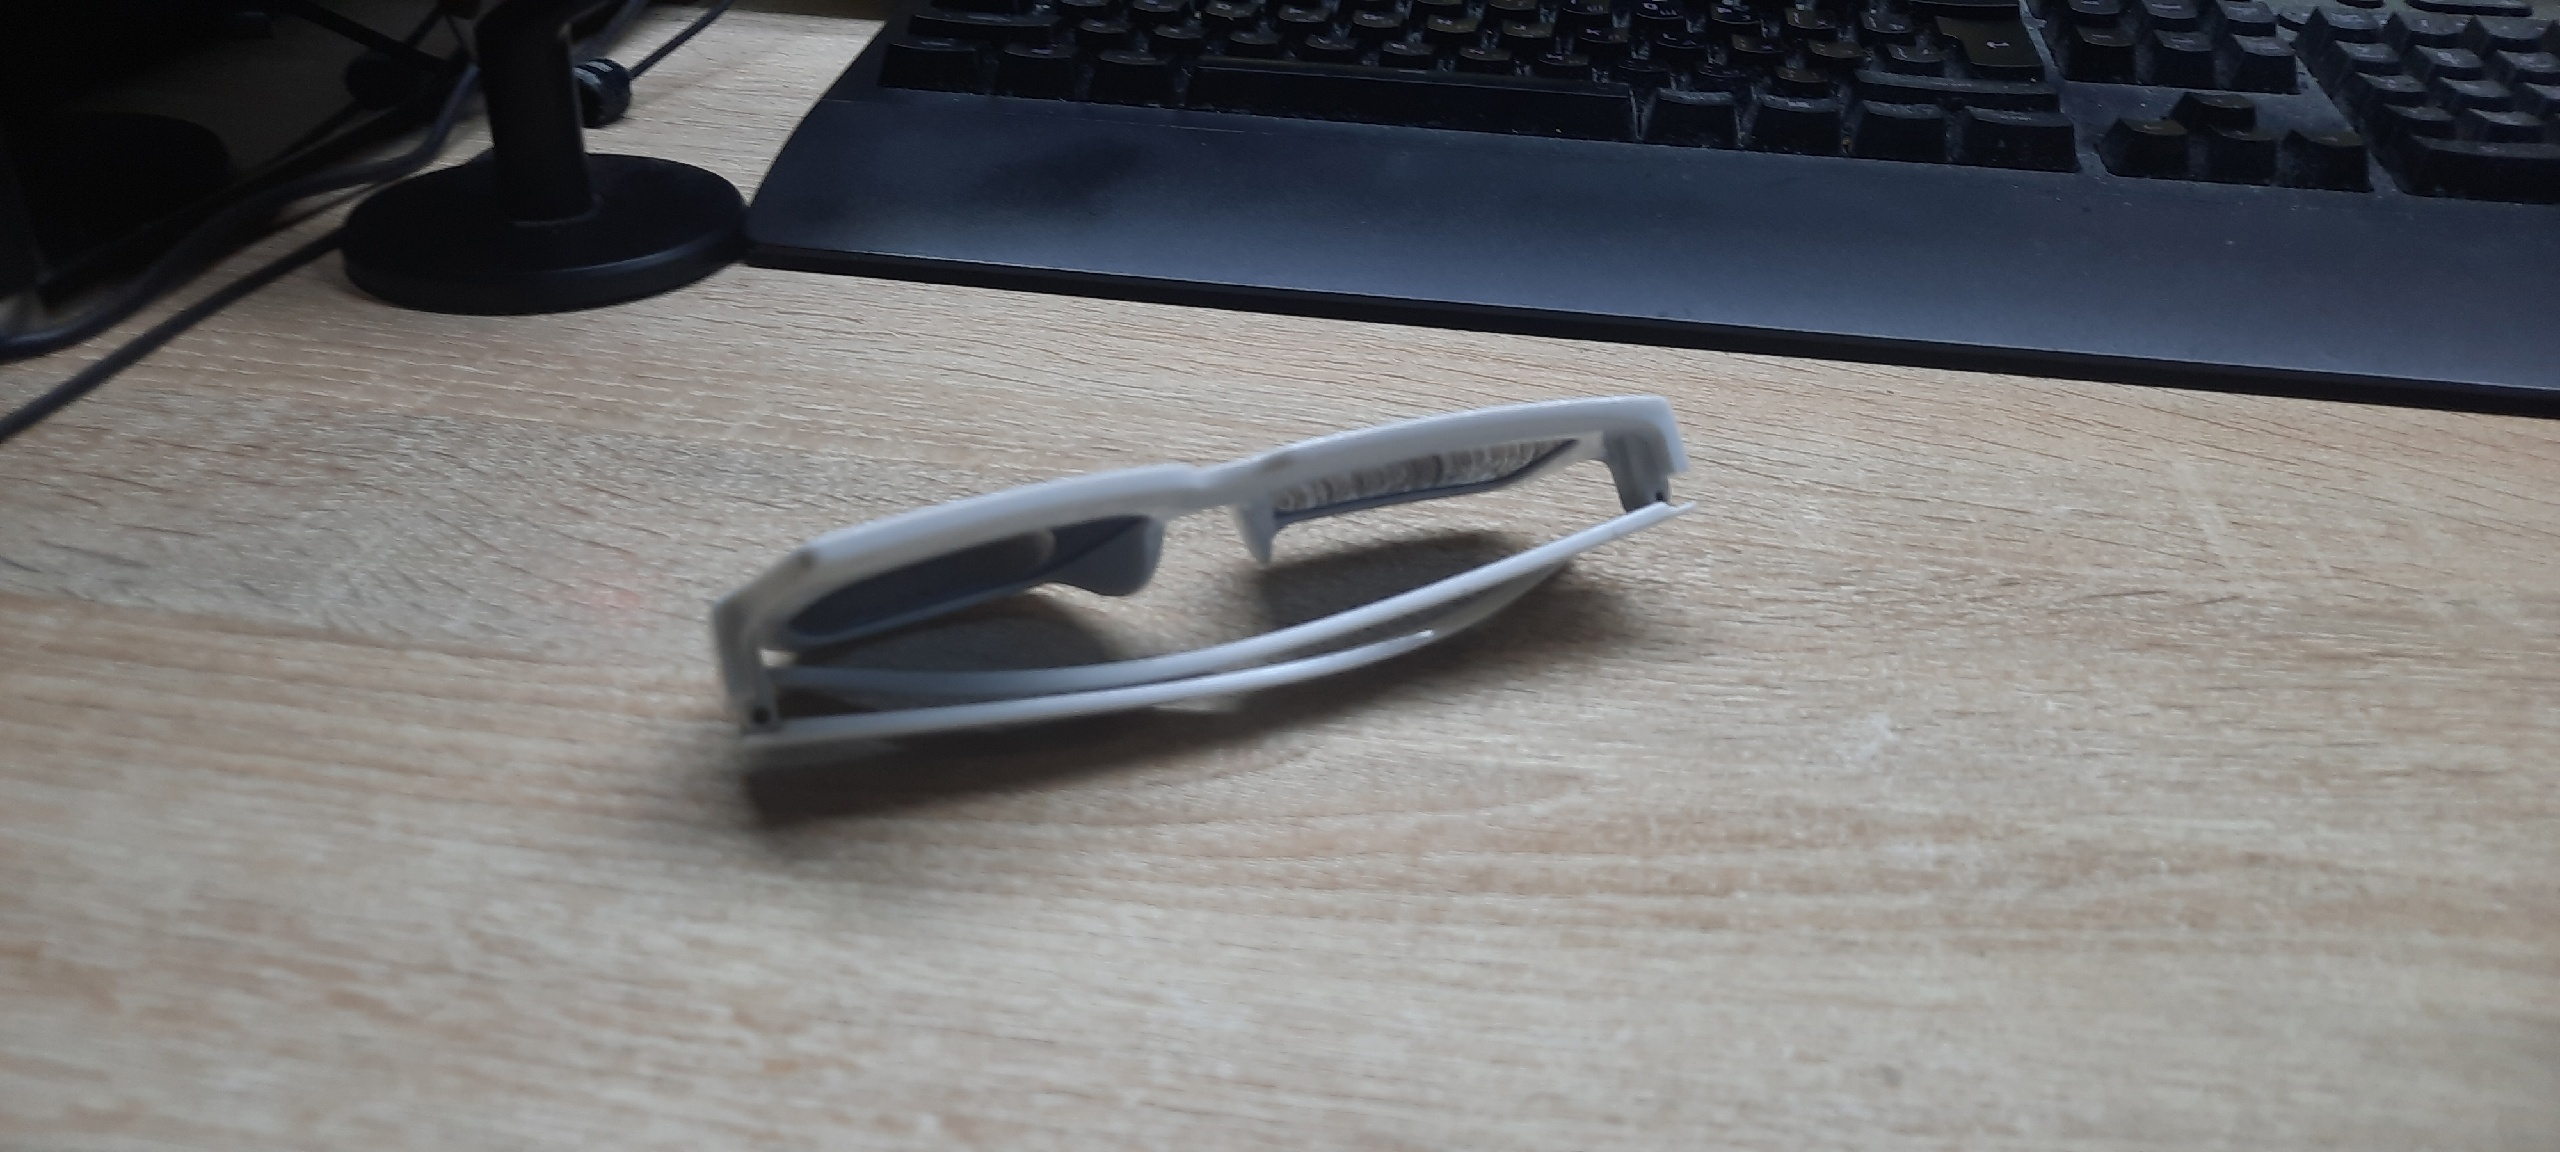glasses: (713, 397, 1690, 746)
